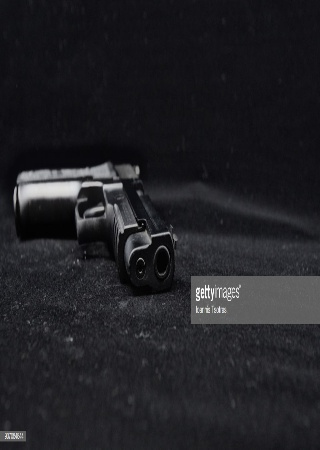handgun: (10, 160, 177, 289)
